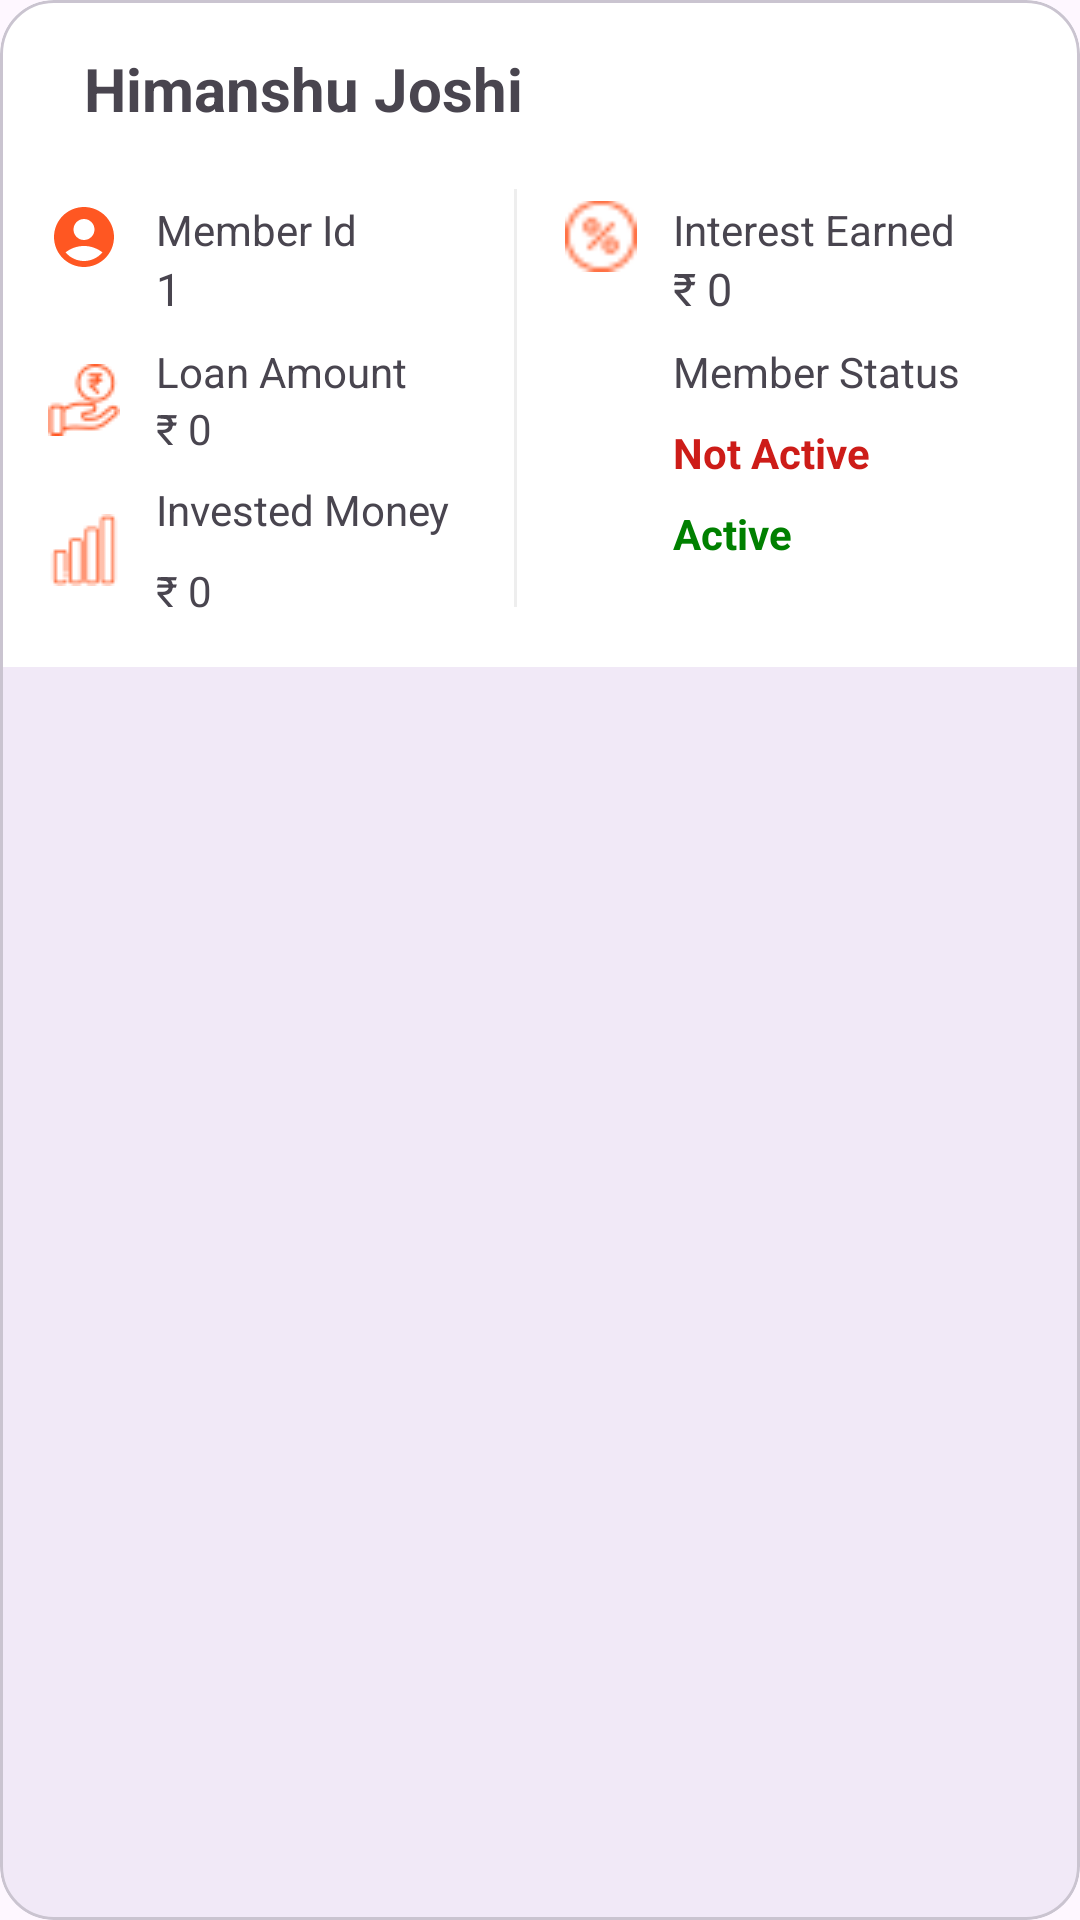

Icon click points for this 1080*1920 phone screenshot, format [x,y]:
account circle: [84,237]
investment: [84,550]
